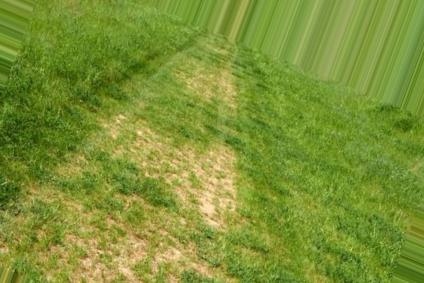patch: (110, 129, 235, 215), (63, 202, 191, 278), (169, 48, 225, 130)
